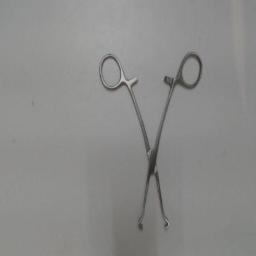Babcock Tissue Forceps: (95, 50, 205, 234)
